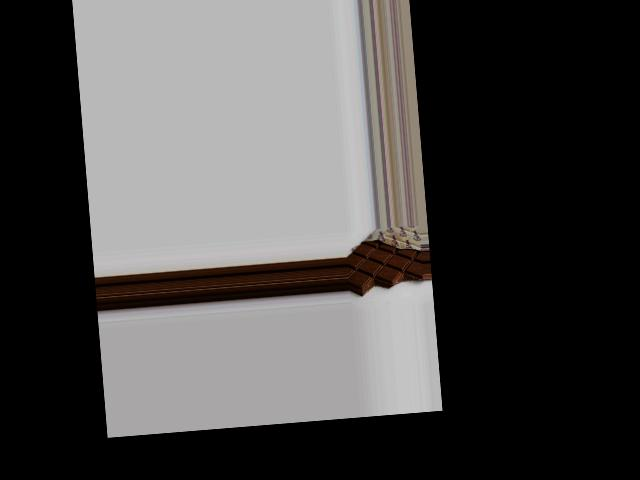chocolate: (345, 225, 425, 291)
